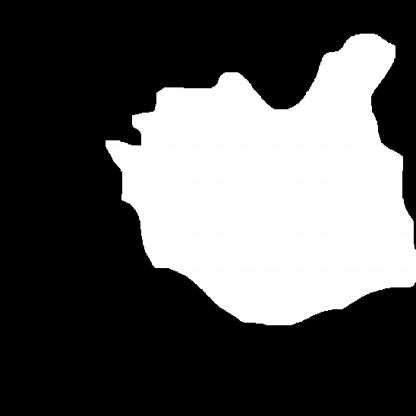malignant: (96, 35, 416, 332)
